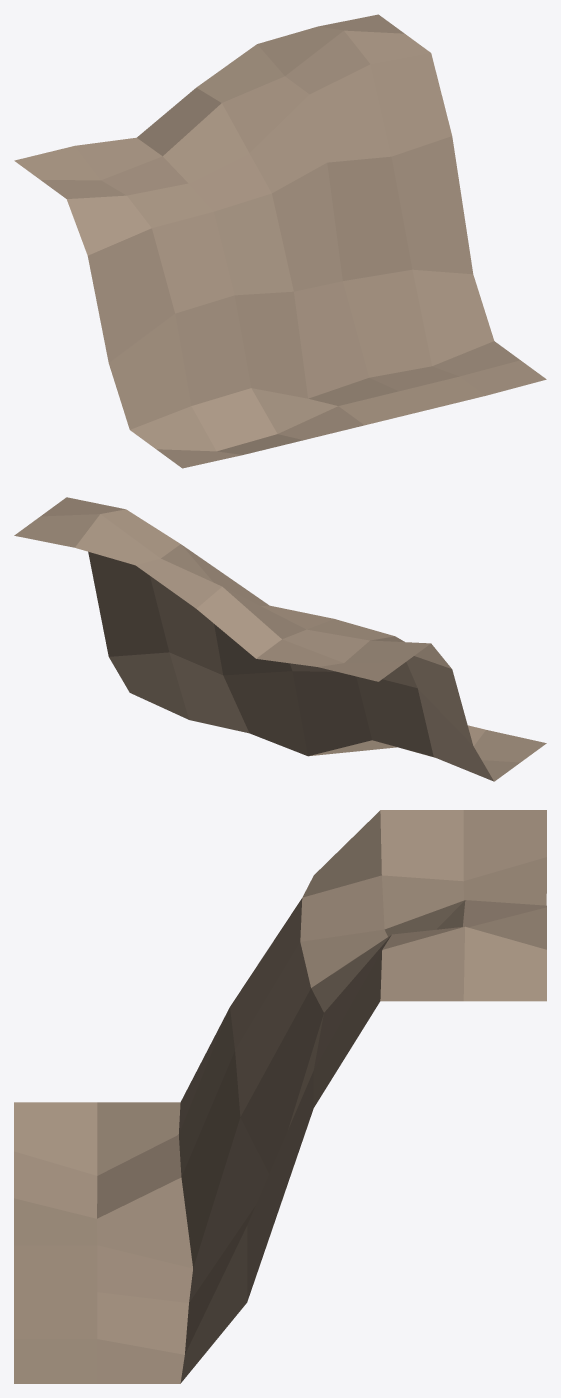
File: Groborchik_RiverBank_Trans_Down4-3.fbx
3 views of the same model, one above another, from view 1: azimuth 30°, elevation 25°; view 2: azimuth 150°, elevation 25°; view 3: azimuth 270°, elevation 25° (orthographic). The views are drawn at different scales.
Visible parts, largest first — view 1: Trans_Down4-3; view 2: Trans_Down4-3; view 3: Trans_Down4-3.
Part boxes in pixels (x1,y1,x2,y2): Trans_Down4-3: (14, 14, 546, 468); Trans_Down4-3: (14, 497, 546, 781); Trans_Down4-3: (14, 810, 546, 1383).
Size of the model in its own units: 1000 by 724 by 800.
